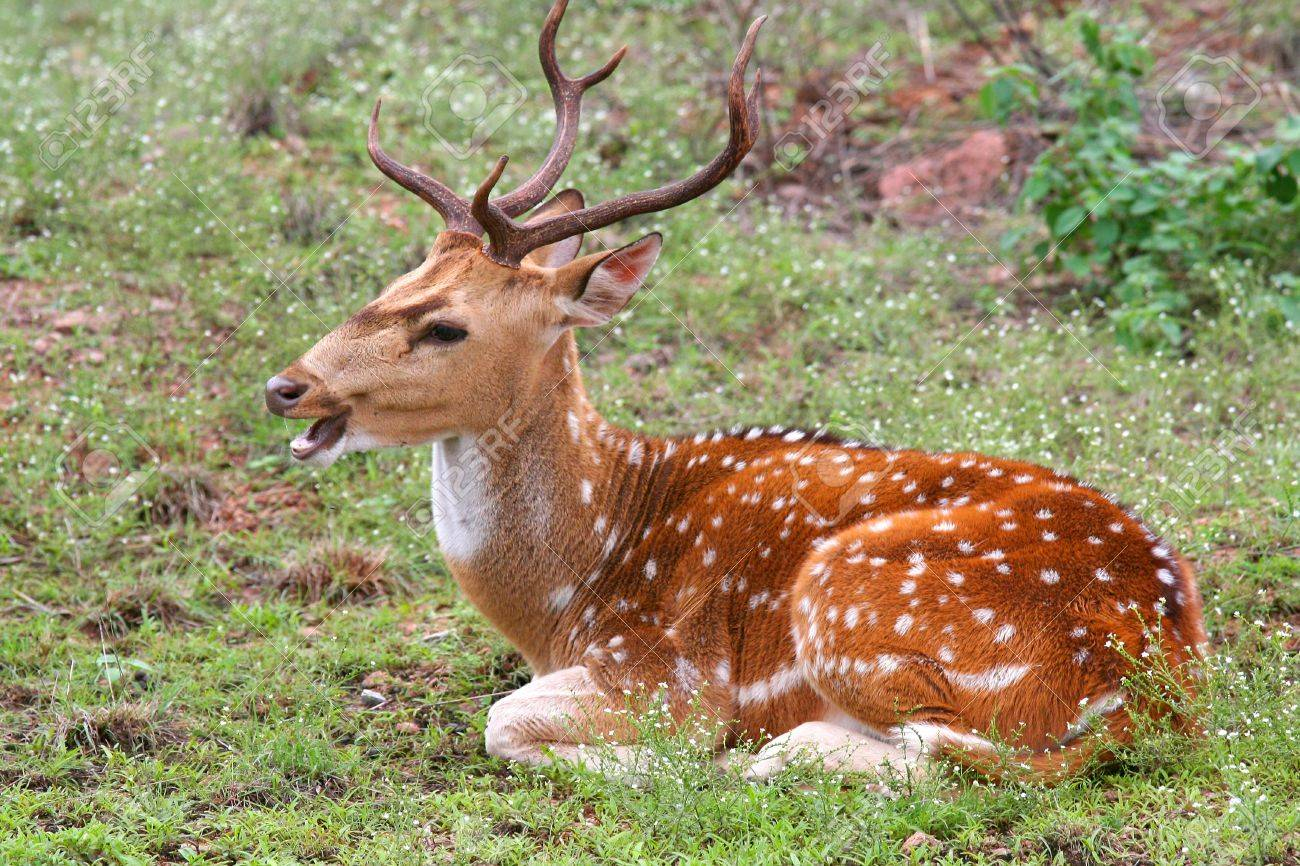Deer: (259, 8, 1208, 791)
